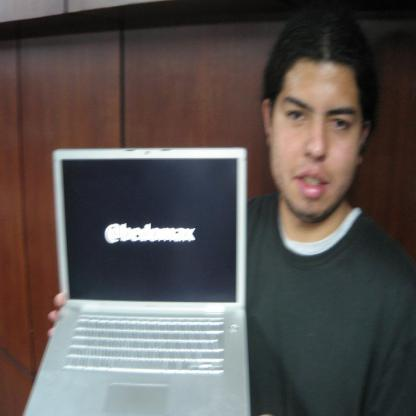board: (25, 145, 250, 416)
